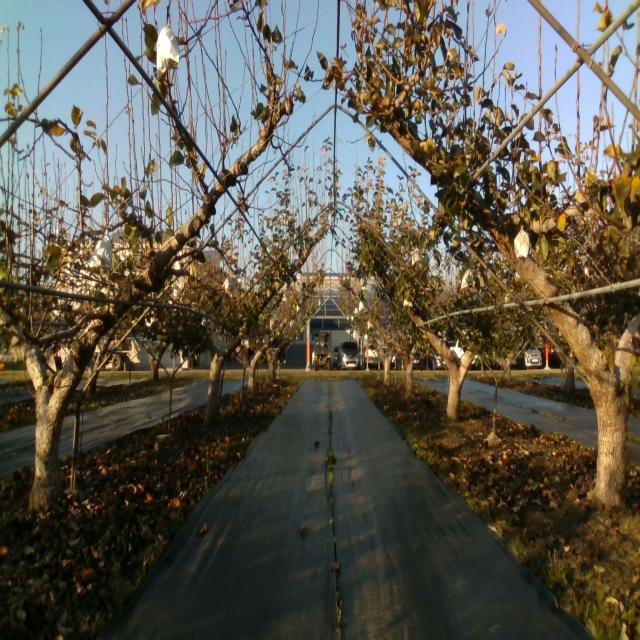pearbags: (155, 24, 180, 80), (87, 230, 112, 268), (514, 226, 529, 260), (460, 268, 476, 292), (222, 278, 234, 297), (412, 248, 422, 267)
